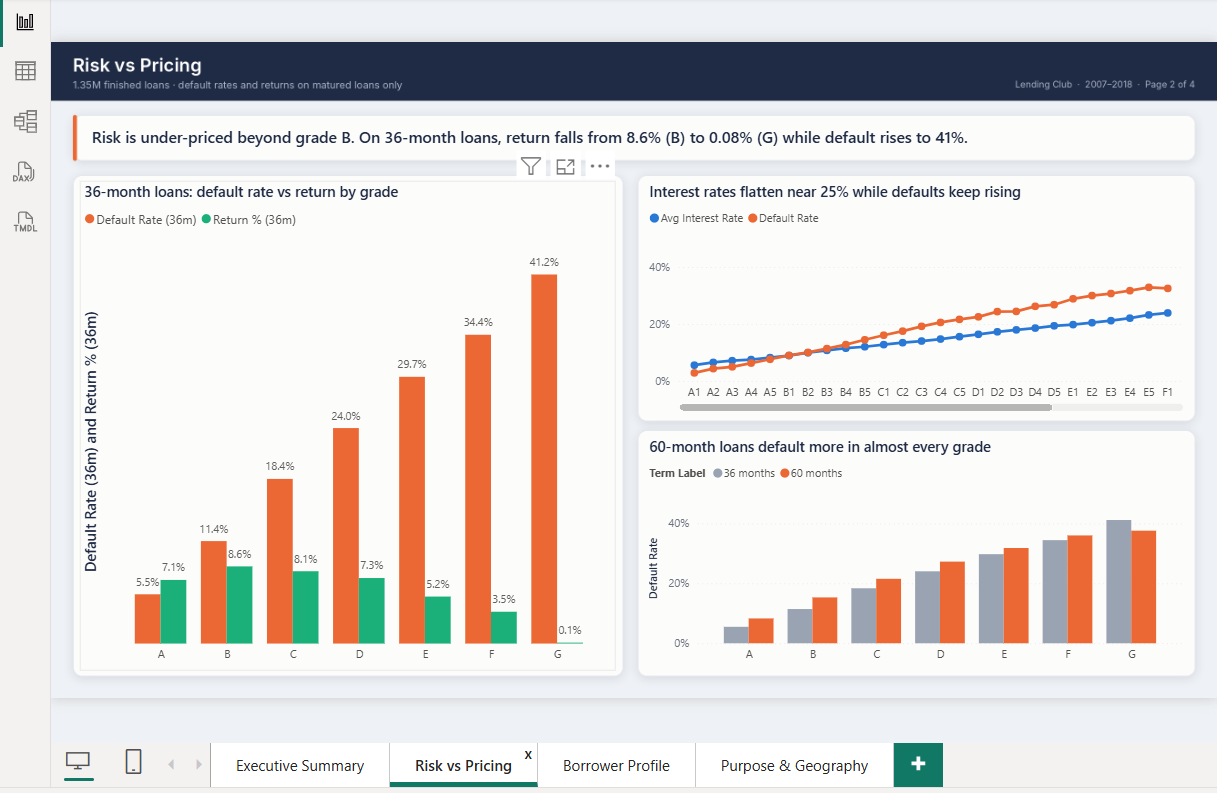

The dashboard page shown, as its layout file describes it:
{"tool":"powerbi","page":{"name":"Risk vs Pricing","canvas":[1280,720],"ordinal":1},"visuals":[{"type":"textbox","box":[40,88,1205,36],"z":0},{"type":"clusteredColumnChart","title":"36-month loans: default rate vs return by grade","fields":{"Category":["loans.grade"],"Y":["loans.Default Rate (36m)","loans.Return % (36m)"]},"box":[32,152,588,538],"z":1000},{"type":"lineChart","title":"Interest rates flatten near 25% while defaults keep rising","fields":{"Category":["loans.sub_grade"],"Y":["loans.Avg Interest Rate","loans.Default Rate"]},"box":[652,152,596,258],"z":2000},{"type":"clusteredColumnChart","title":"60-month loans default more in almost every grade","fields":{"Category":["loans.grade"],"Series":["loans.Term Label"],"Y":["loans.Default Rate"]},"box":[652,432,596,258],"z":3000}]}

Visuals, with their boxes on the page's 1280x720 design canvas (x1, y1, x2, y2). These are canvas units, not pixel positions in the 1217x793 screenshot, which may show the page scaled, cropped or inside an application window:
textbox: (40,88,1245,124)
"36-month loans: default rate vs return by grade" clusteredColumnChart: (32,152,620,690)
"Interest rates flatten near 25% while defaults keep rising" lineChart: (652,152,1248,410)
"60-month loans default more in almost every grade" clusteredColumnChart: (652,432,1248,690)
